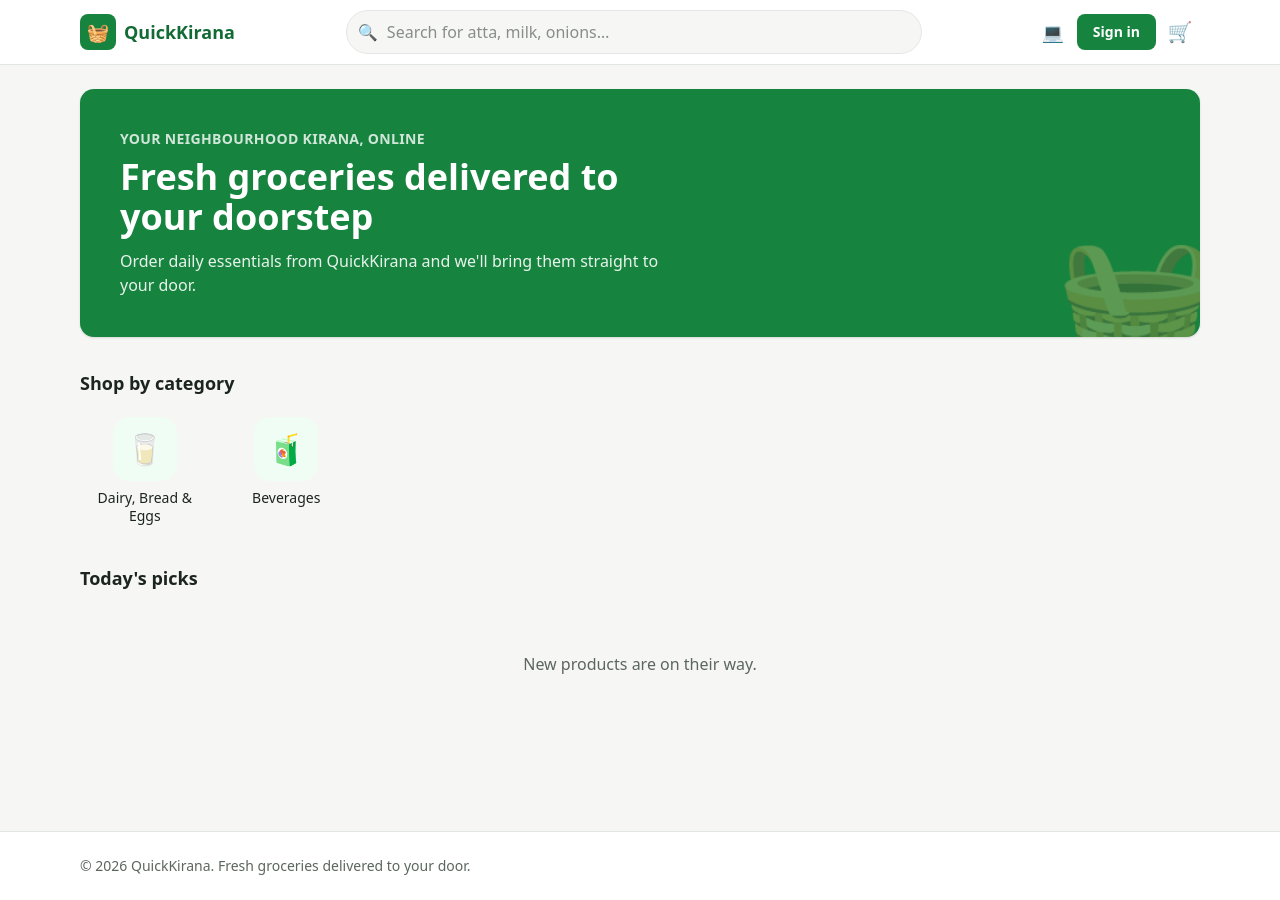
Test case: storefront catalogue › header search goes to the results page
Type "basmati rice" into the search field named "Search products" at (634, 32), box [346, 10, 922, 54]
Then press Enter
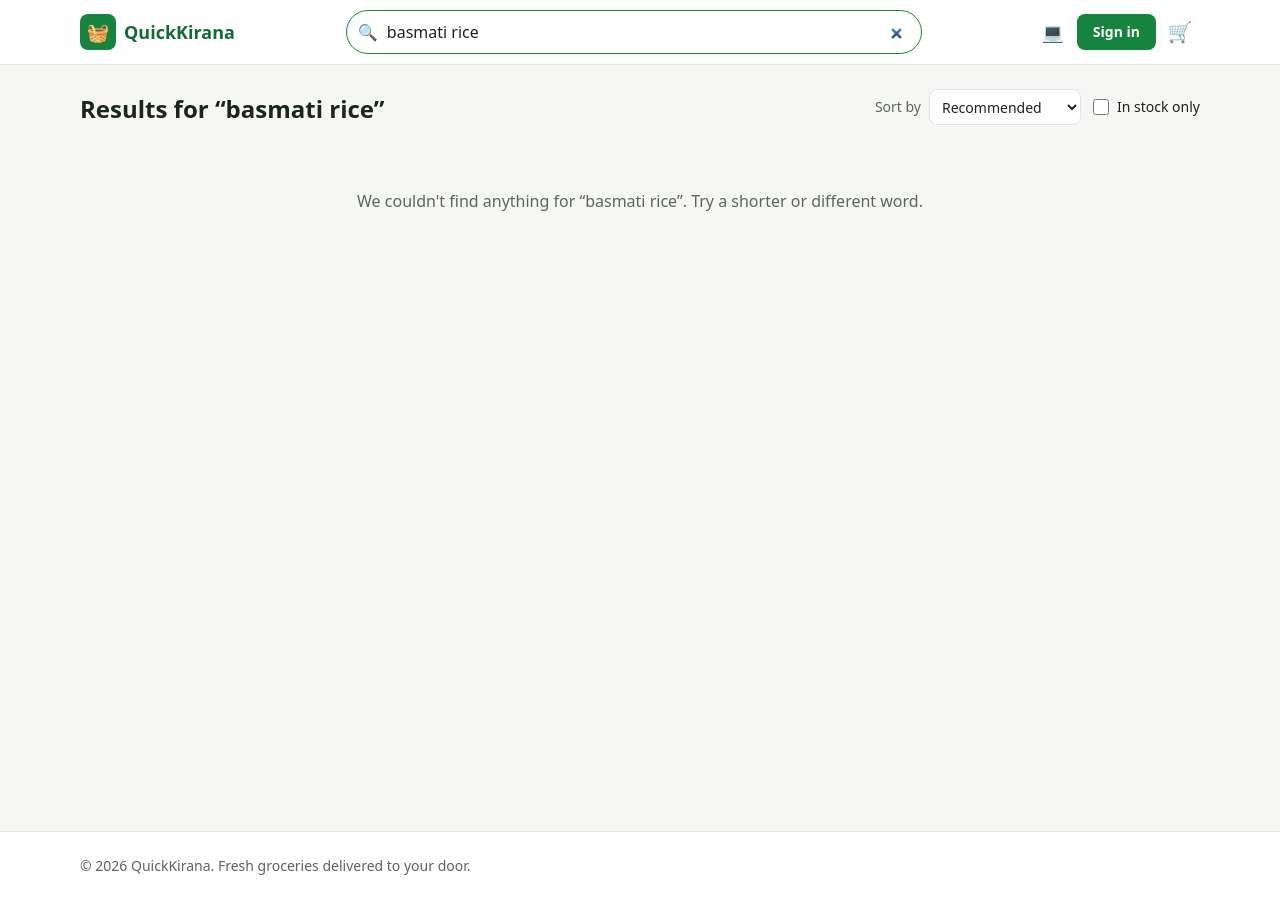
Check: the text "couldn't find anything" is shown, box [357, 190, 923, 212]
